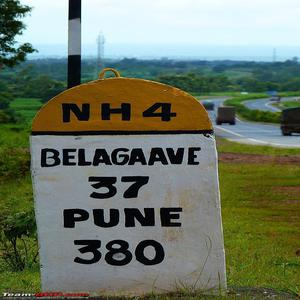kmstone: (22, 79, 233, 293)
